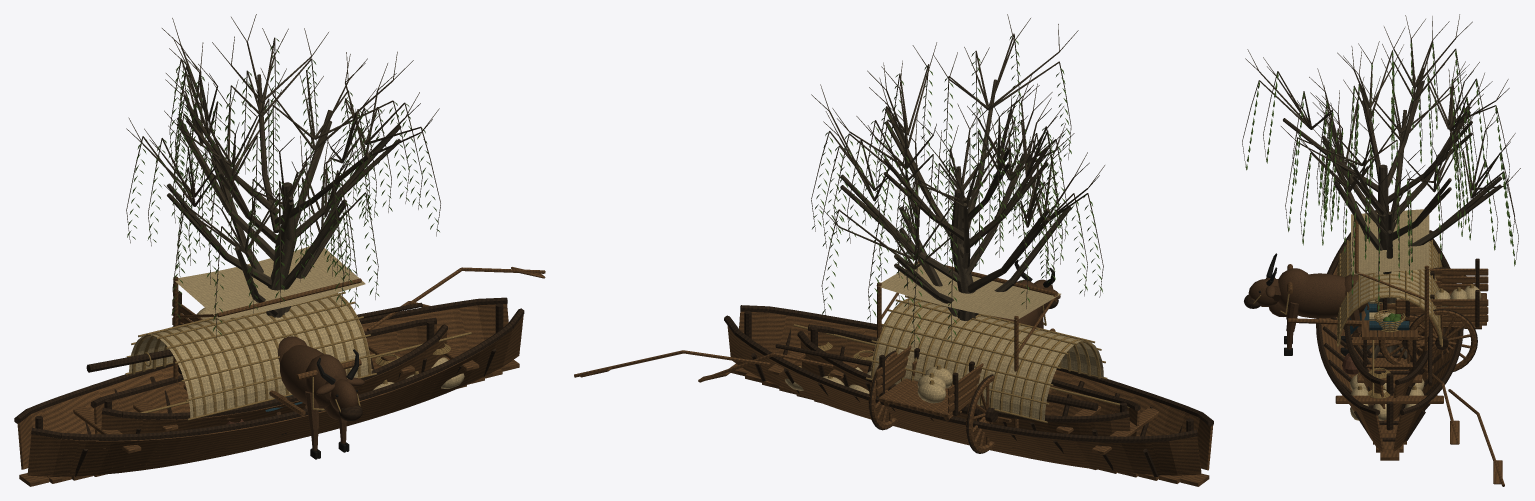
The model's file is period-life.glb.
3 renders of one model, left to right at view 1: azimuth 30°, elevation 25°; view 2: azimuth 150°, elevation 25°; view 3: azimuth 270°, elevation 25°, orthographic. The views are drawn at different scales.
Parts seen in each view (by area): view 1: boat_cargo_aged-timber, tree_willow_willow-bark, tree_bare_willow-bark, boat_cargo_unbleached-hemp, boat_cargo_woven-bamboo, boat_cargo_dark-endgrain, boat_skiff_aged-timber, tree_willow_spring-green, cart_ox_ox-brown-hide, stall_cloth_unbleached-hemp, boat_skiff_dark-endgrain, stall_produce_unbleached-hemp (+3 smaller); view 2: boat_cargo_aged-timber, tree_willow_willow-bark, tree_bare_willow-bark, boat_cargo_unbleached-hemp, boat_cargo_dark-endgrain, boat_cargo_woven-bamboo, tree_willow_spring-green, boat_skiff_aged-timber, cart_ox_aged-timber, boat_skiff_dark-endgrain, stall_produce_unbleached-hemp, stall_cloth_unbleached-hemp (+3 smaller); view 3: tree_willow_willow-bark, tree_bare_willow-bark, tree_willow_spring-green, boat_cargo_aged-timber, cart_ox_aged-timber, cart_ox_ox-brown-hide, boat_cargo_dark-endgrain, boat_cargo_woven-bamboo, boat_cargo_unbleached-hemp, stall_cloth_unbleached-hemp, boat_skiff_aged-timber, stall_cloth_aged-timber (+8 smaller).
Boxes of the visible parts, left/top/right/bottom form: boat_cargo_aged-timber: left=17, top=267, right=545, bottom=486; tree_willow_willow-bark: left=126, top=37, right=440, bottom=337; tree_bare_willow-bark: left=126, top=14, right=439, bottom=317; boat_cargo_unbleached-hemp: left=129, top=294, right=464, bottom=417; boat_cargo_woven-bamboo: left=125, top=292, right=450, bottom=420; boat_cargo_dark-endgrain: left=14, top=297, right=524, bottom=476; boat_skiff_aged-timber: left=93, top=301, right=447, bottom=434; tree_willow_spring-green: left=127, top=38, right=439, bottom=335; cart_ox_ox-brown-hide: left=275, top=336, right=364, bottom=450; stall_cloth_unbleached-hemp: left=173, top=246, right=365, bottom=319; boat_skiff_dark-endgrain: left=90, top=317, right=447, bottom=433; stall_produce_unbleached-hemp: left=197, top=278, right=363, bottom=314; boat_cargo_aged-timber: left=574, top=311, right=1213, bottom=486; tree_willow_willow-bark: left=811, top=33, right=1103, bottom=347; tree_bare_willow-bark: left=811, top=14, right=1104, bottom=320; boat_cargo_unbleached-hemp: left=785, top=299, right=1103, bottom=420; boat_cargo_dark-endgrain: left=724, top=305, right=1213, bottom=477; boat_cargo_woven-bamboo: left=799, top=295, right=1107, bottom=423; tree_willow_spring-green: left=812, top=35, right=1102, bottom=344; boat_skiff_aged-timber: left=698, top=330, right=1139, bottom=436; cart_ox_aged-timber: left=868, top=296, right=1057, bottom=452; boat_skiff_dark-endgrain: left=797, top=324, right=1140, bottom=435; stall_produce_unbleached-hemp: left=881, top=263, right=1060, bottom=320; stall_cloth_unbleached-hemp: left=876, top=263, right=1045, bottom=319; tree_willow_willow-bark: left=1242, top=41, right=1518, bottom=361; tree_bare_willow-bark: left=1245, top=14, right=1520, bottom=360; tree_willow_spring-green: left=1246, top=42, right=1515, bottom=310; boat_cargo_aged-timber: left=1321, top=265, right=1504, bottom=486; cart_ox_aged-timber: left=1287, top=264, right=1488, bottom=371; cart_ox_ox-brown-hide: left=1248, top=268, right=1369, bottom=349; boat_cargo_dark-endgrain: left=1316, top=210, right=1463, bottom=441; boat_cargo_woven-bamboo: left=1337, top=240, right=1442, bottom=398; boat_cargo_unbleached-hemp: left=1341, top=241, right=1438, bottom=420; stall_cloth_unbleached-hemp: left=1351, top=209, right=1429, bottom=320; boat_skiff_aged-timber: left=1351, top=332, right=1459, bottom=444; stall_cloth_aged-timber: left=1354, top=207, right=1428, bottom=379.
Bounding box in the file's own units: 12.05 × 7.52 × 5.88.
10 materials, 10 textured.
